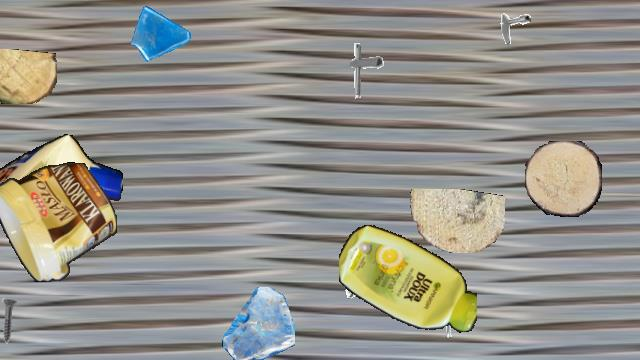glass: (222, 287, 294, 359), (129, 1, 193, 65)
metal: (332, 40, 392, 100), (339, 255, 385, 301), (431, 301, 475, 345), (489, 2, 531, 44), (0, 297, 32, 345)
plastic: (339, 221, 477, 337), (0, 162, 116, 282), (0, 133, 122, 229)
wood: (407, 189, 505, 253), (525, 141, 601, 217), (0, 49, 57, 103)
